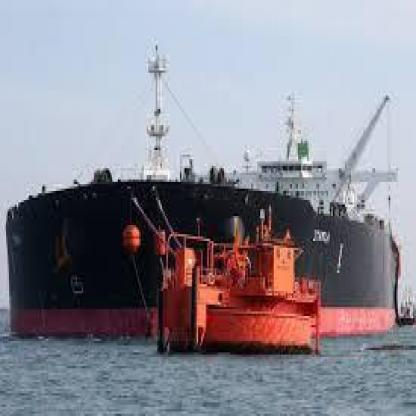other: (126, 186, 335, 356)
